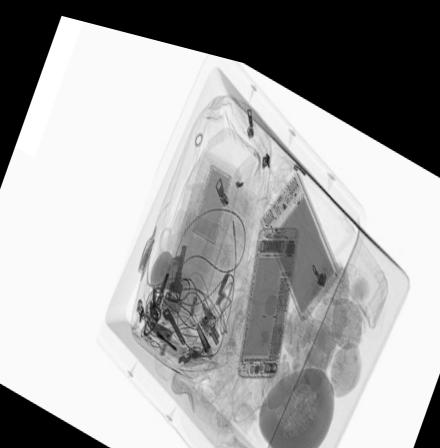Powerbank: (257, 154, 339, 309)
